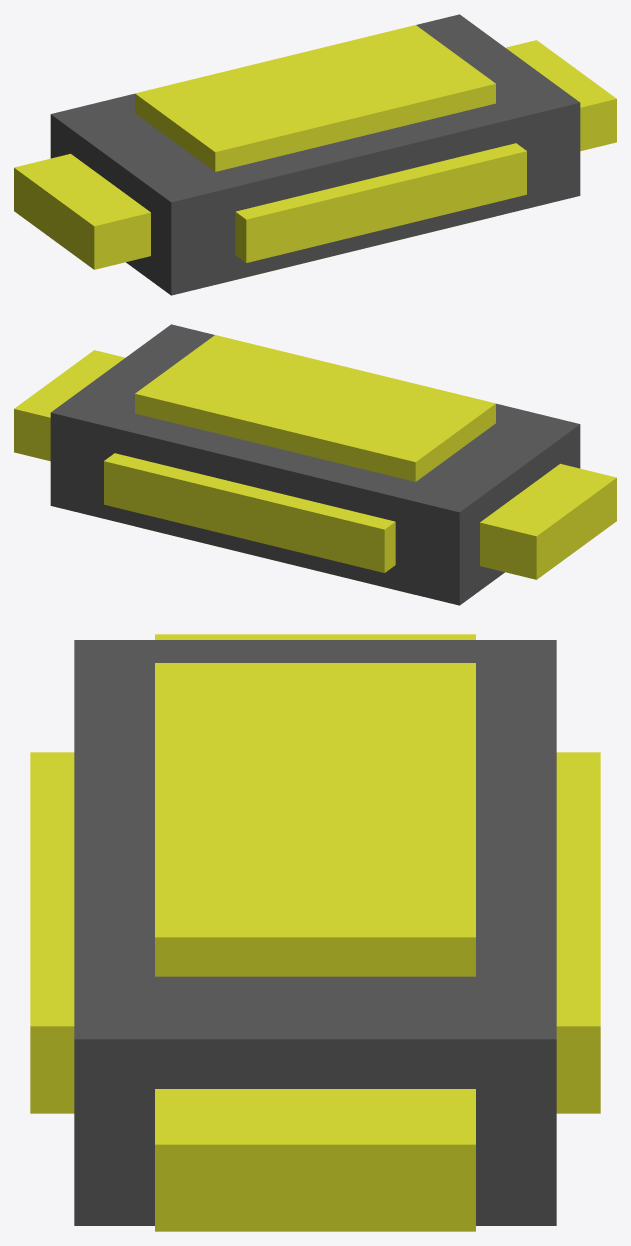
File: tile_yellow.FBX
3 views of the same model, one above another, from view 1: azimuth 30°, elevation 25°; view 2: azimuth 150°, elevation 25°; view 3: azimuth 270°, elevation 25° (orthographic). The views are drawn at different scales.
Visible parts, largest first — view 1: Box001; view 2: Box001; view 3: Box001.
Boxes of the visible parts, x1,y1,x2,y2 form: Box001: [14, 14, 616, 295]; Box001: [14, 324, 616, 605]; Box001: [30, 634, 600, 1231].
Size of the model in its own units: 46.57 by 11.31 by 21.99.
